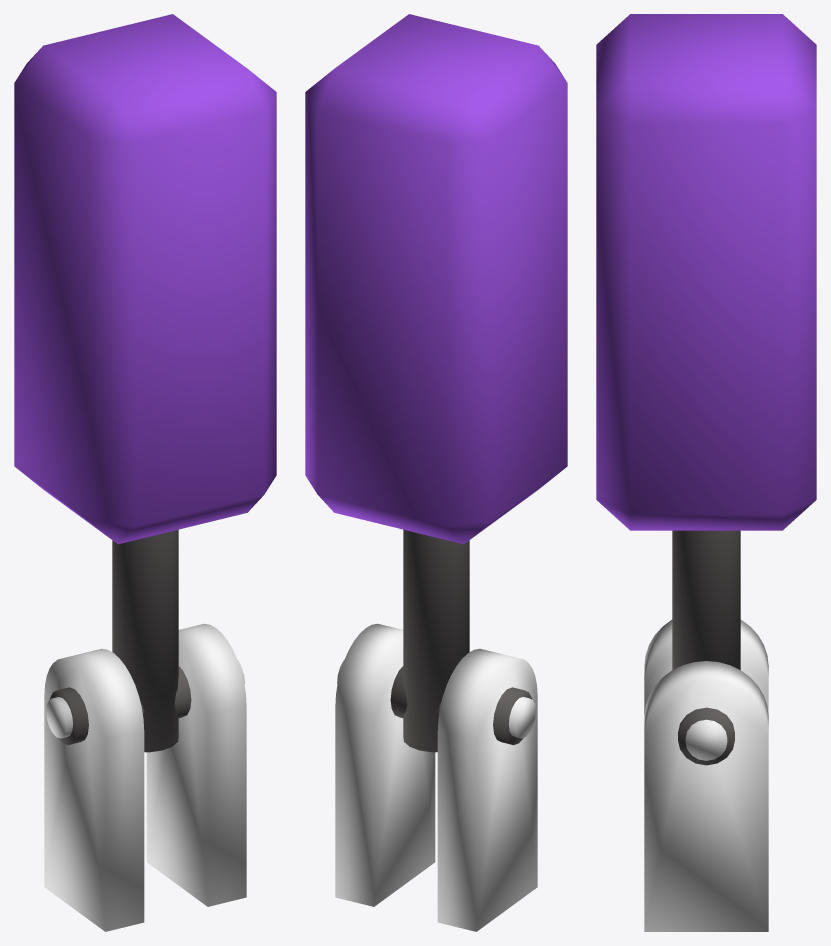
File: Obstacle 23 V4.fbx
The picture shows the model from 3 angles, left to right: view 1: azimuth 30°, elevation 25°; view 2: azimuth 150°, elevation 25°; view 3: azimuth 270°, elevation 25°; orthographic projection.
Parts seen in each view (by area): view 1: O23 Part 2, O23 Part 1; view 2: O23 Part 2, O23 Part 1; view 3: O23 Part 2, O23 Part 1.
Part boxes in pixels (left/top/right/bottom): O23 Part 2: left=14, top=14, right=276, bottom=752; O23 Part 1: left=44, top=623, right=246, bottom=931; O23 Part 2: left=305, top=14, right=567, bottom=752; O23 Part 1: left=335, top=623, right=537, bottom=931; O23 Part 2: left=596, top=14, right=816, bottom=765; O23 Part 1: left=644, top=619, right=768, bottom=931.
Size of the model in its own units: 68.06 by 290 by 68.06.
Materials: 1 (1 with a texture image).
